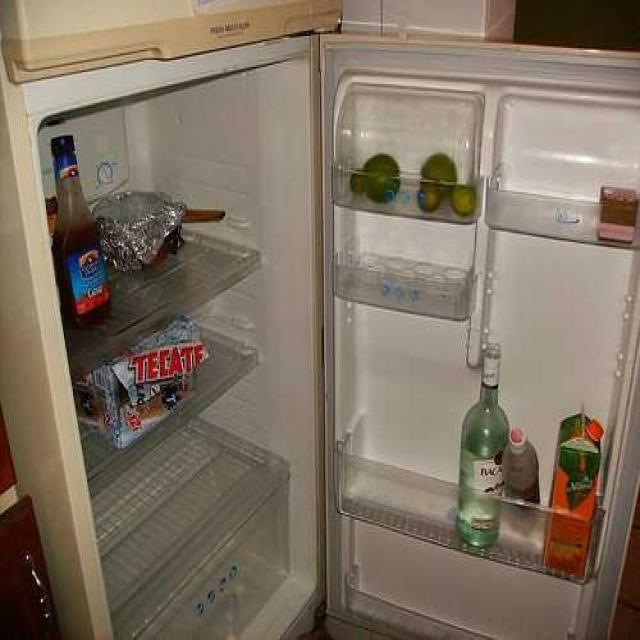refrigerator: (19, 72, 599, 640)
